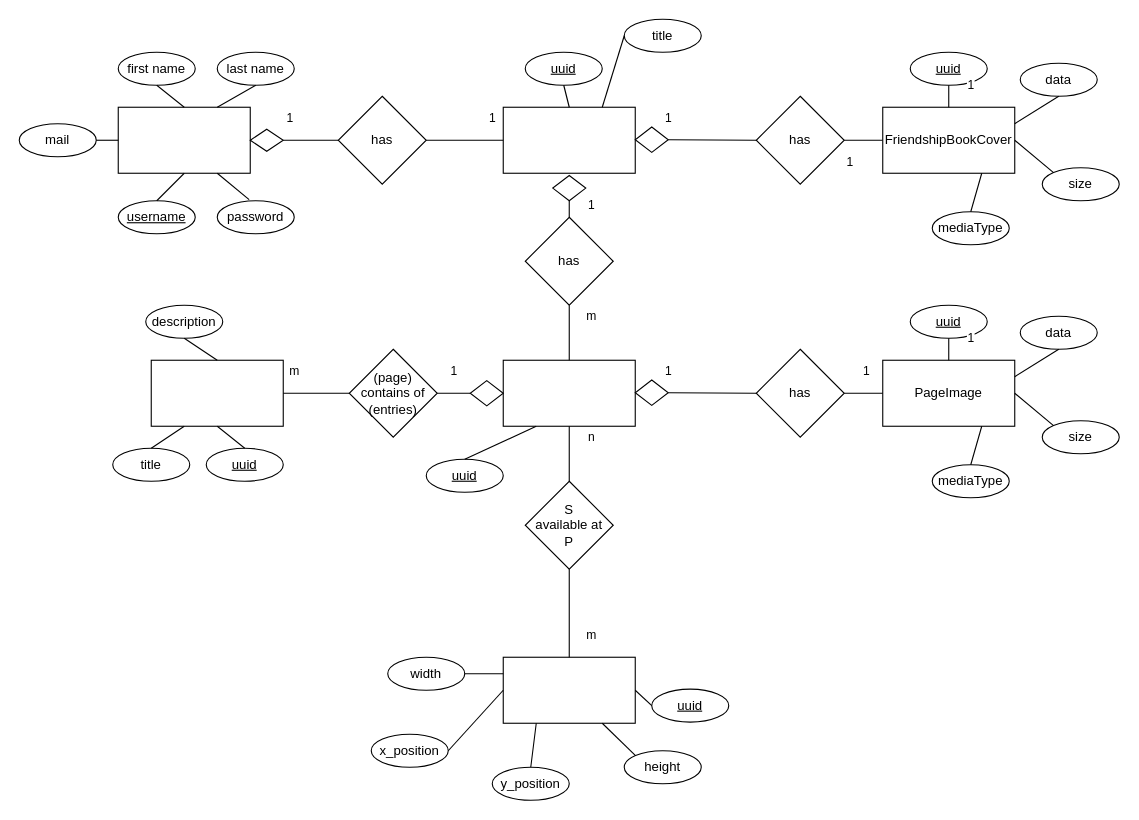
Some shapes in this 1139 by 820 pixel diagram are drawn without their labels. Here are the shapes that lost their labels. From the top down, the box of each, then its label:
(117, 106, 250, 173): User
(502, 106, 635, 173): FriendshipBook
(150, 359, 283, 426): PageEntry
(502, 359, 635, 426): Page
(502, 656, 635, 723): Stickers
